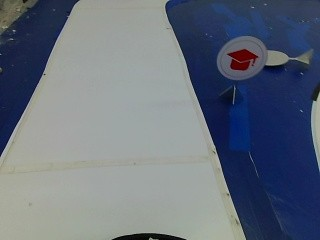school: (214, 35, 267, 83)
